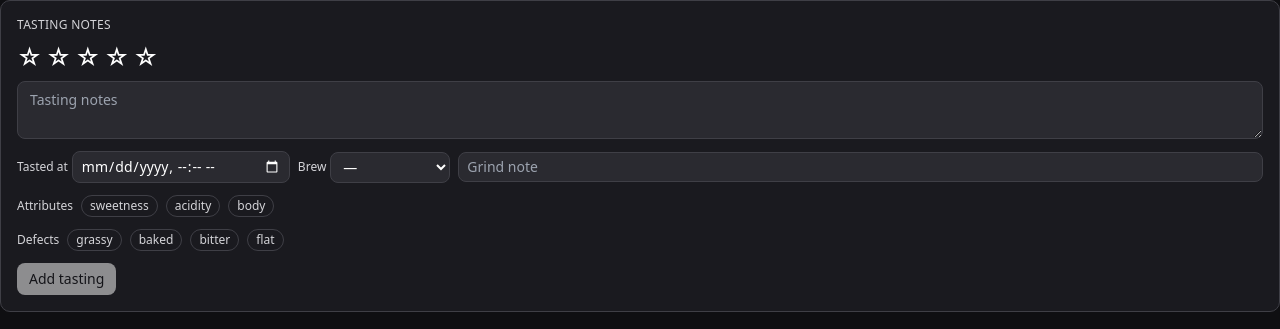
Test case: RoastTastings › surfaces a save error when BOTH records fail to save
Click the radio button with test id "tasting-star-1" at [30, 57], box [17, 45, 42, 69]
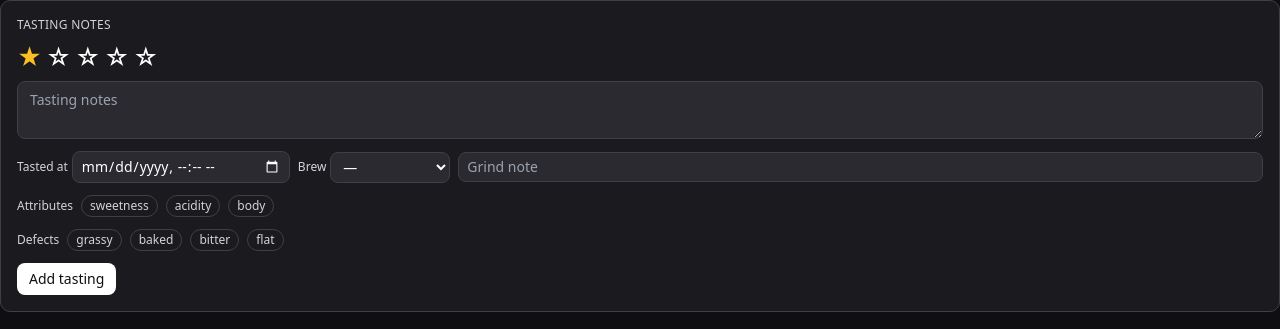
Click the button with test id "tasting-save" at [67, 279], box [17, 263, 116, 295]
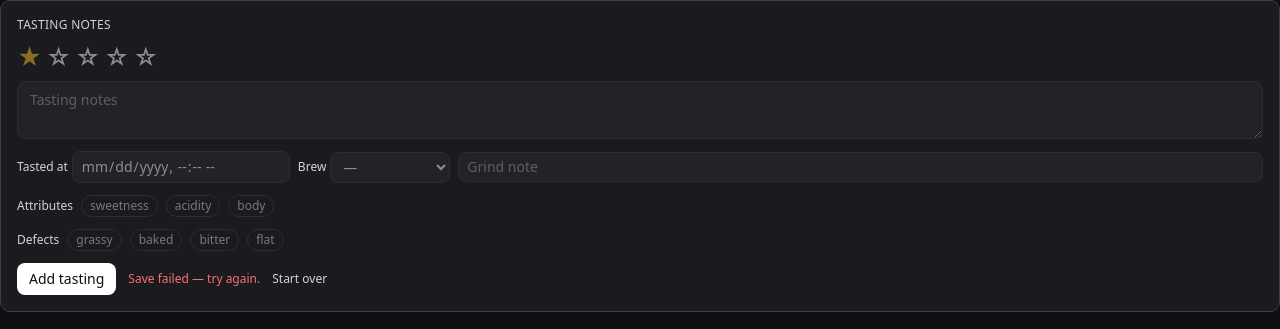
Result: the text "Save failed — try again." is shown at [128, 271, 260, 287]
Result: the text with test id "tasting-error" shows "Save failed" at [128, 270, 260, 287]
